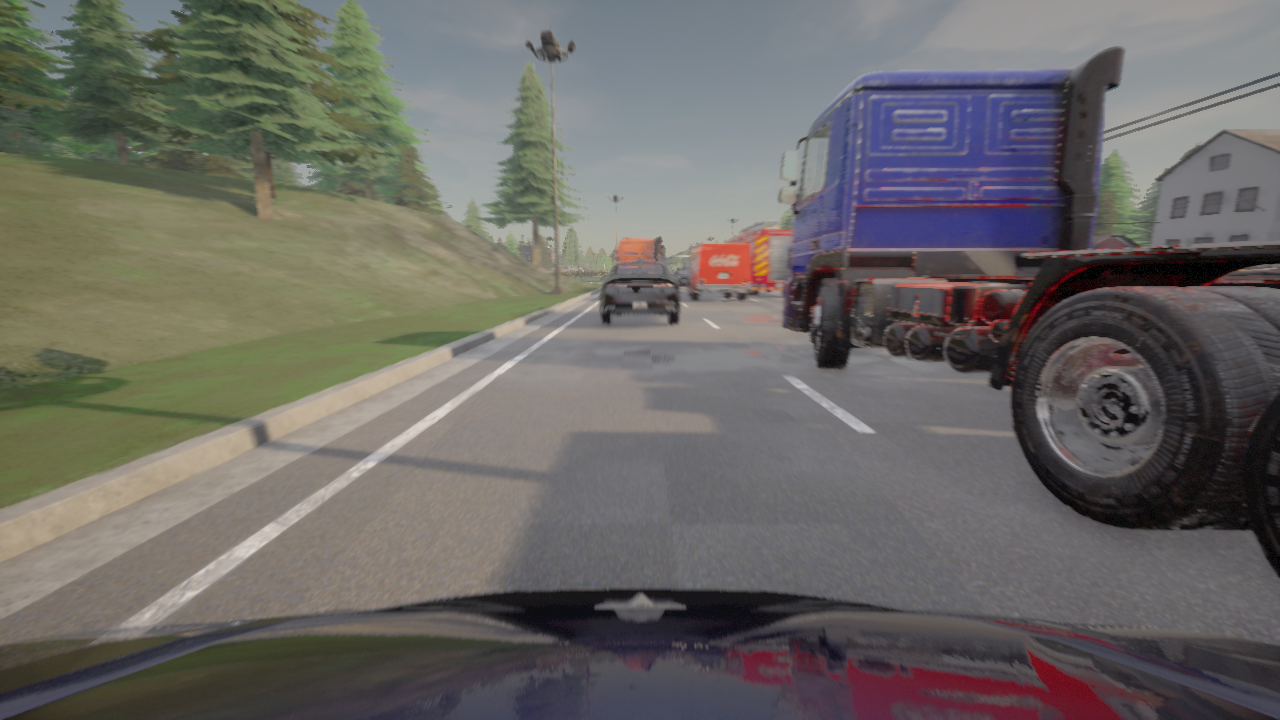cyclist: (778, 47, 1279, 580), (0, 588, 1279, 719), (600, 262, 679, 324), (728, 220, 791, 296), (684, 244, 752, 300), (614, 238, 664, 262), (671, 270, 690, 286)
